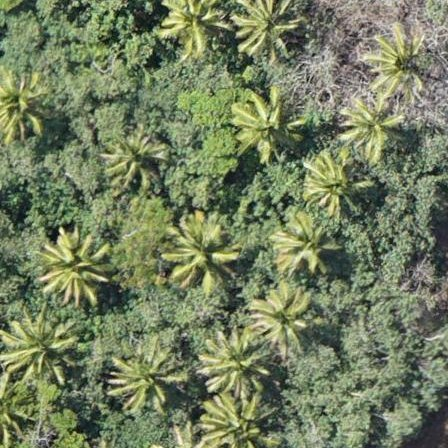palm_tree: (1, 314, 72, 389), (111, 339, 182, 407), (38, 231, 108, 299), (365, 27, 431, 99), (233, 1, 303, 61), (304, 152, 368, 215), (166, 222, 231, 284), (200, 332, 265, 393), (105, 132, 169, 191), (233, 94, 297, 151), (199, 396, 271, 446), (251, 283, 310, 343), (1, 67, 50, 138), (273, 217, 332, 275), (158, 1, 226, 50), (340, 97, 396, 155)
